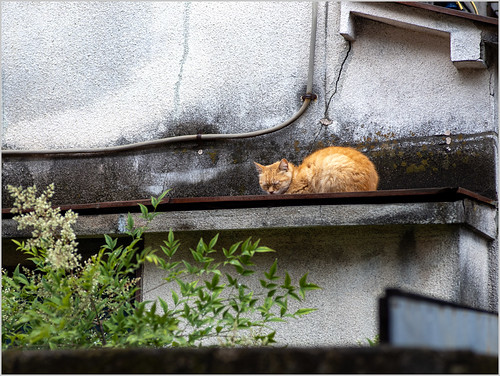animal: (251, 139, 380, 201)
building: (22, 1, 491, 349)
